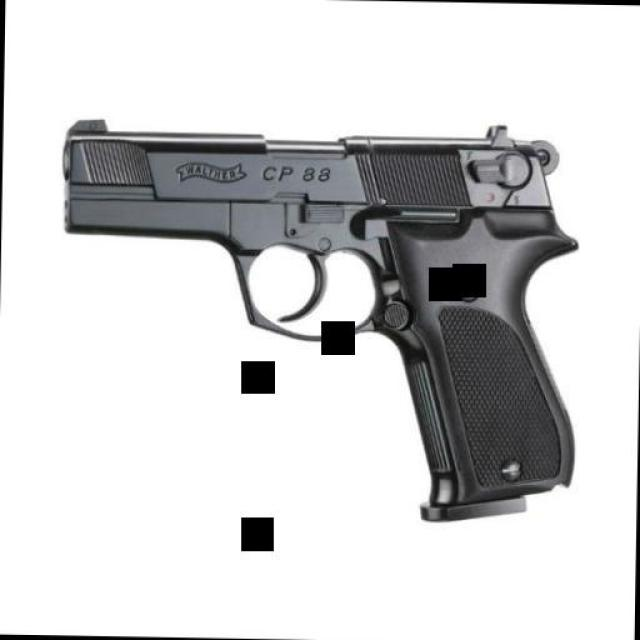gun: (51, 110, 585, 525)
